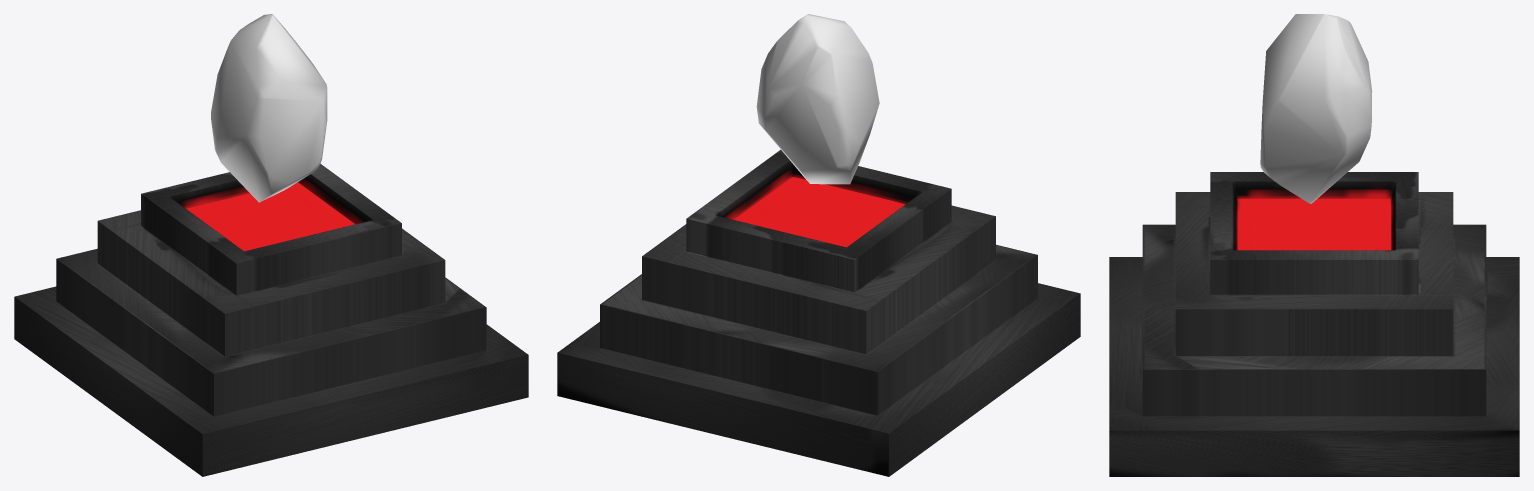
Rendered from FlameTowerLVL1.fbx.
The picture shows the model from 3 angles, left to right: view 1: azimuth 30°, elevation 25°; view 2: azimuth 150°, elevation 25°; view 3: azimuth 270°, elevation 25°; orthographic projection. The views are drawn at different scales.
Visible parts, largest first — view 1: Cube, Sphere; view 2: Cube, Sphere; view 3: Cube, Sphere.
Boxes of the visible parts, bbox=[...] form: Cube: bbox=[14, 164, 528, 476]; Sphere: bbox=[211, 14, 327, 202]; Cube: bbox=[557, 149, 1080, 476]; Sphere: bbox=[756, 14, 879, 184]; Cube: bbox=[1109, 172, 1519, 476]; Sphere: bbox=[1260, 14, 1372, 203].
Size of the model in its own units: 800 by 816 by 800.
Materials: 1 (1 with a texture image).
